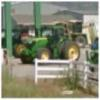tractors: (22, 24, 80, 65)
